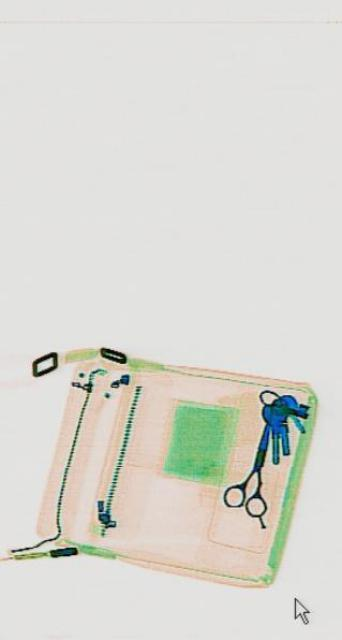Scissors: (220, 408, 283, 532)
